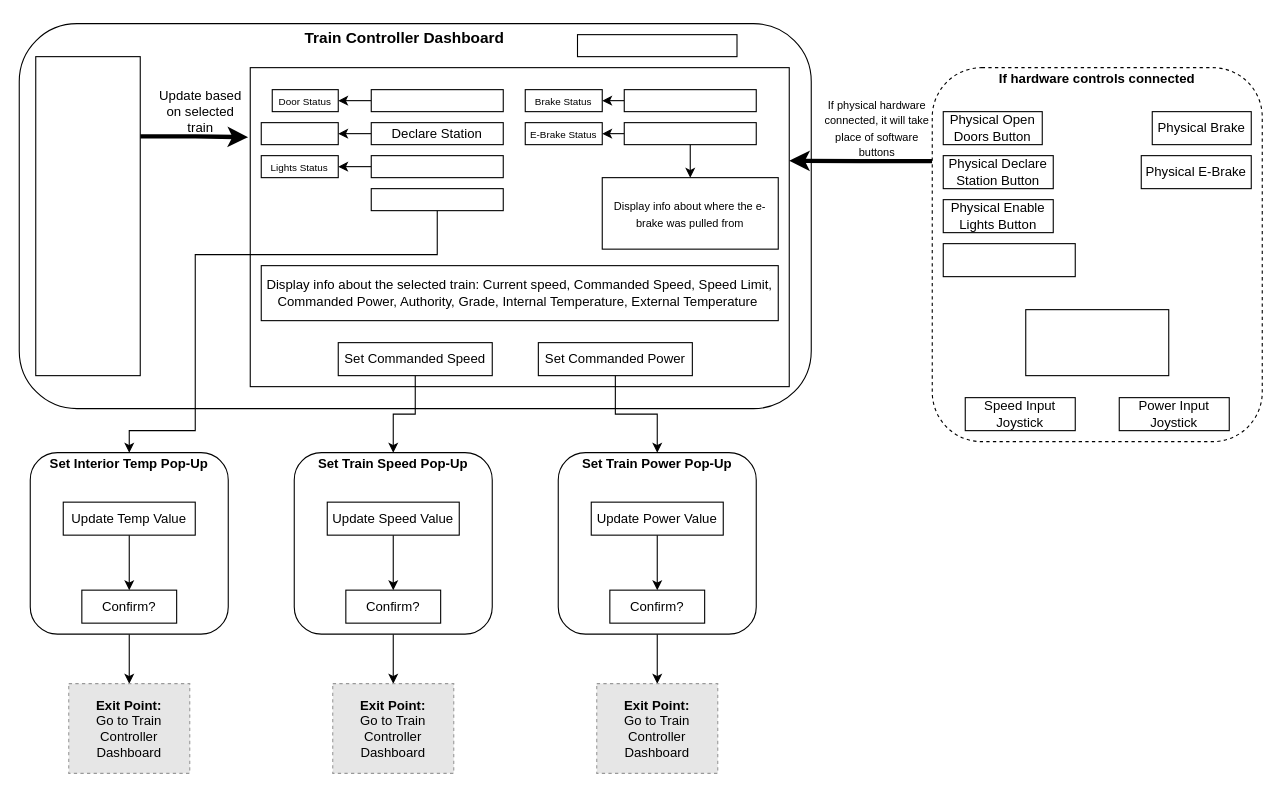
The diagram is 1282 pixels wide and 793 high, and some of its shapes have lost their labels. Grey dashed boxes stand in for pictures. The shapes that lost their labels are listed below. From the top down, each one's box as (x1, y1, x2, y2) in pixels, then its label:
(576, 34, 737, 57): Simulation speed settings
(370, 89, 503, 112): Open Doors
(623, 89, 756, 112): Service Brake
(260, 122, 338, 145): Declare Status
(623, 122, 756, 145): E-Brake
(370, 155, 503, 178): Enable Lights
(35, 56, 140, 376): View Trains
(370, 188, 503, 211): Change Temperature
(942, 243, 1075, 277): Physical Temperature Switcher
(1025, 309, 1169, 376): LCD Display to output info
